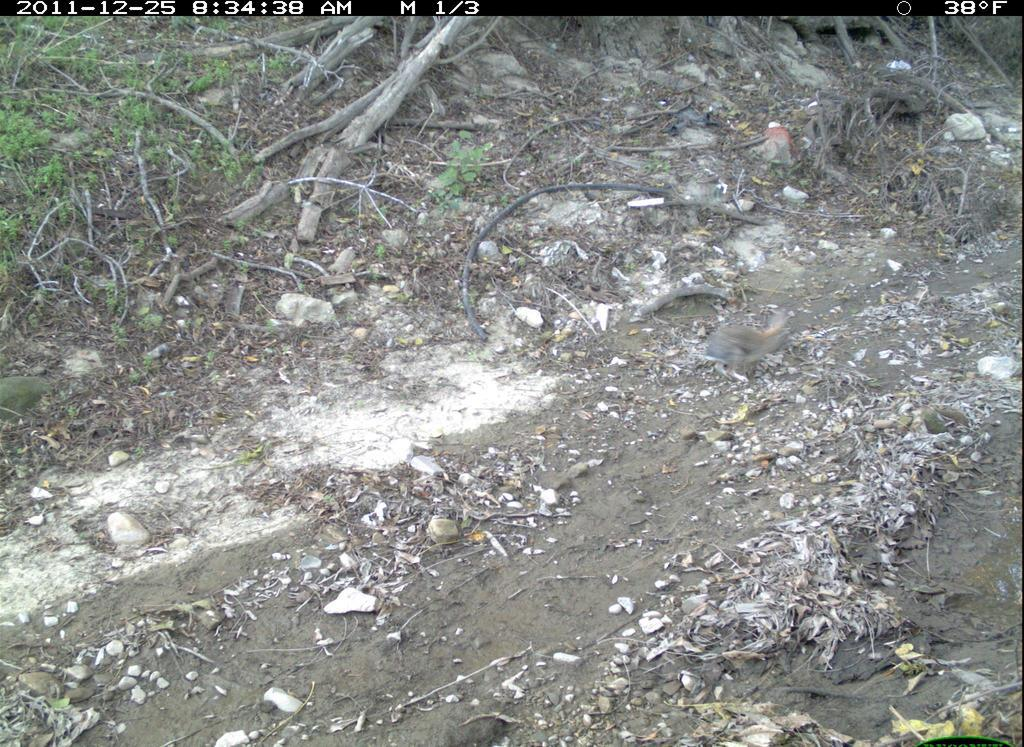rabbit: (694, 301, 801, 385)
